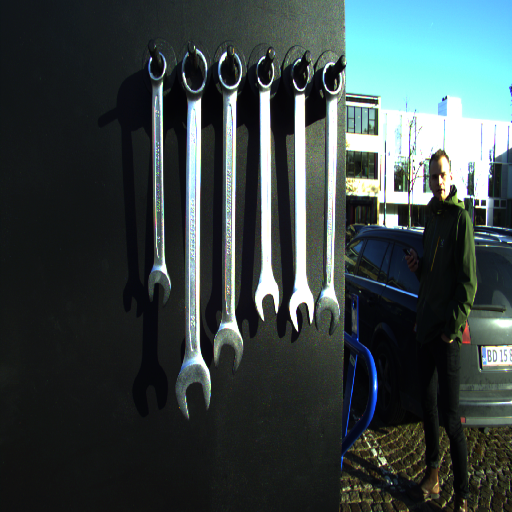bottom: (172, 361, 212, 420), (213, 329, 245, 375), (287, 290, 314, 334), (313, 294, 340, 336), (253, 281, 280, 321), (142, 270, 172, 305)
top: (179, 49, 208, 99), (216, 50, 243, 97), (287, 56, 311, 96), (320, 60, 344, 99), (145, 48, 170, 85), (253, 54, 275, 94)
